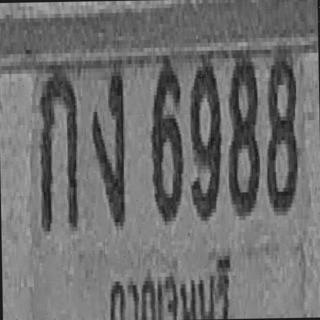A01: (38, 65, 78, 231)
A07: (90, 62, 126, 224)
N06: (150, 53, 183, 220)
N08: (264, 47, 299, 210), (226, 48, 259, 214)
N09: (189, 54, 222, 217)
P17: (102, 247, 237, 320)
